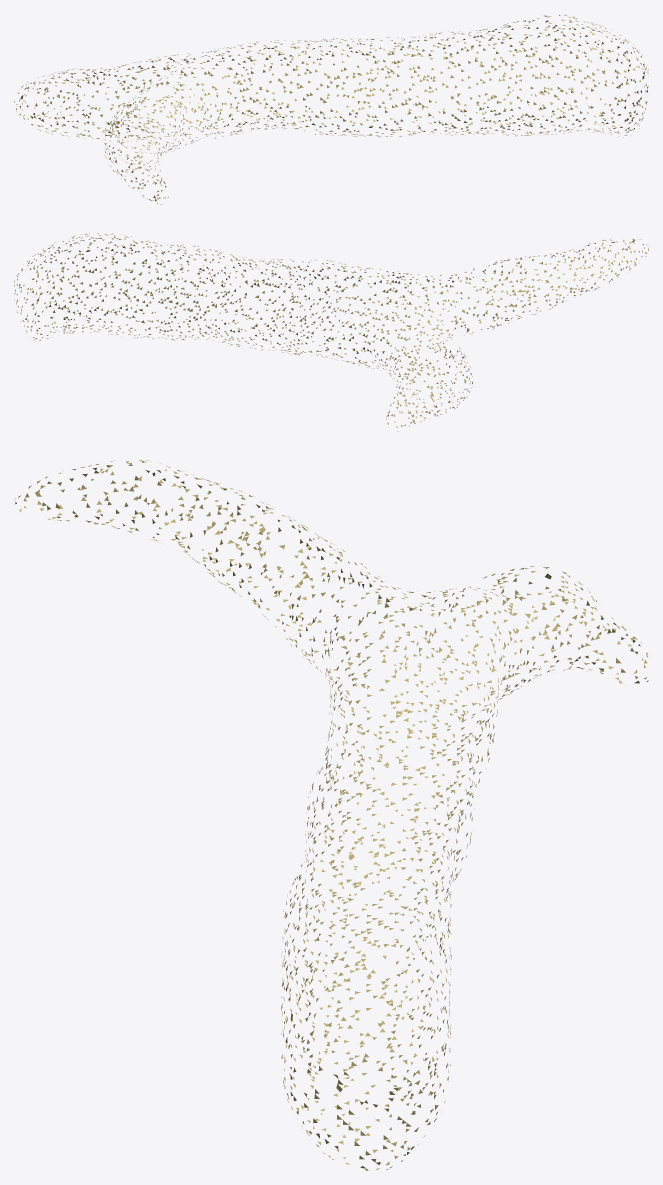
Rendered from morph_008.glb.
The picture shows the model from 3 angles, top to bottom: view 1: azimuth 30°, elevation 25°; view 2: azimuth 150°, elevation 25°; view 3: azimuth 270°, elevation 25°; orthographic projection. The views are drawn at different scales.
Size of the model in its own units: 134 by 40.56 by 80.28.
